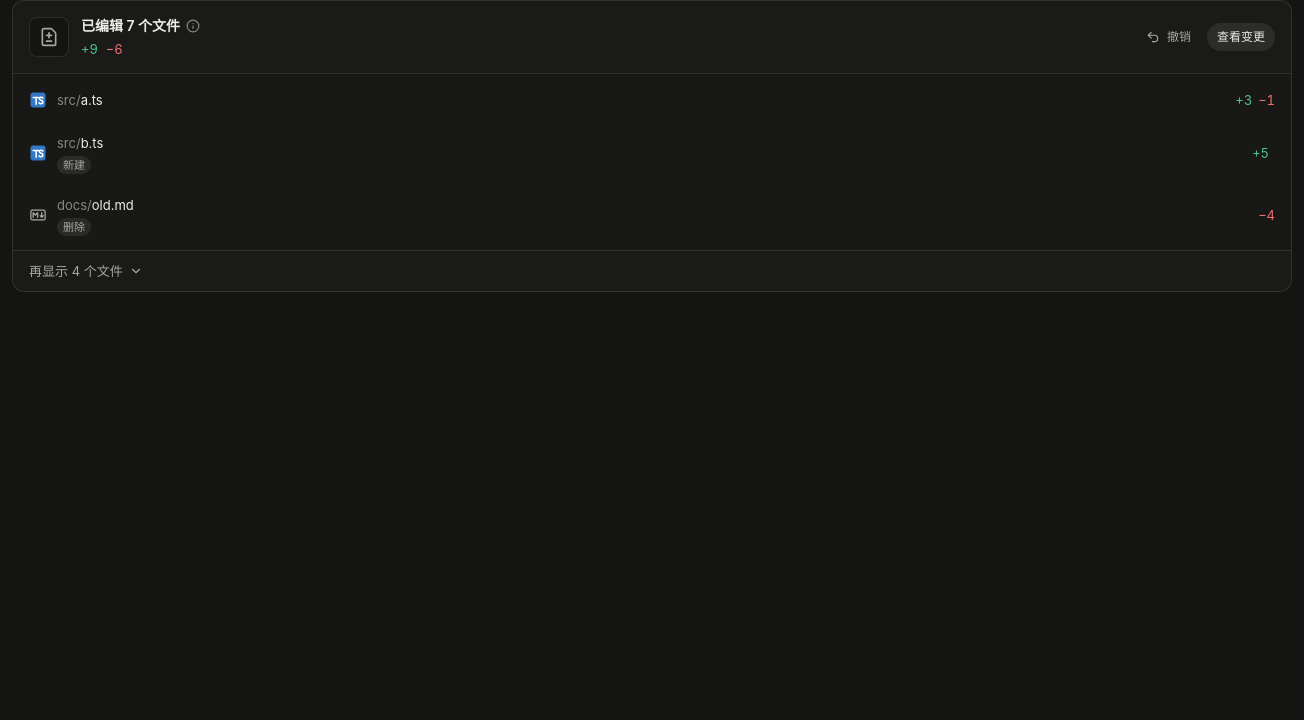
Test: TurnFilesCard › sums up the turn and lists the first files
Expected: the text with class "headline" reads "已编辑 7 个文件", [81,17,180,34]
Expected: the text with class "add" reads "+9", [81,41,98,57]
Click the button with class "more".
click(86, 271)  # box [13,251,159,291]
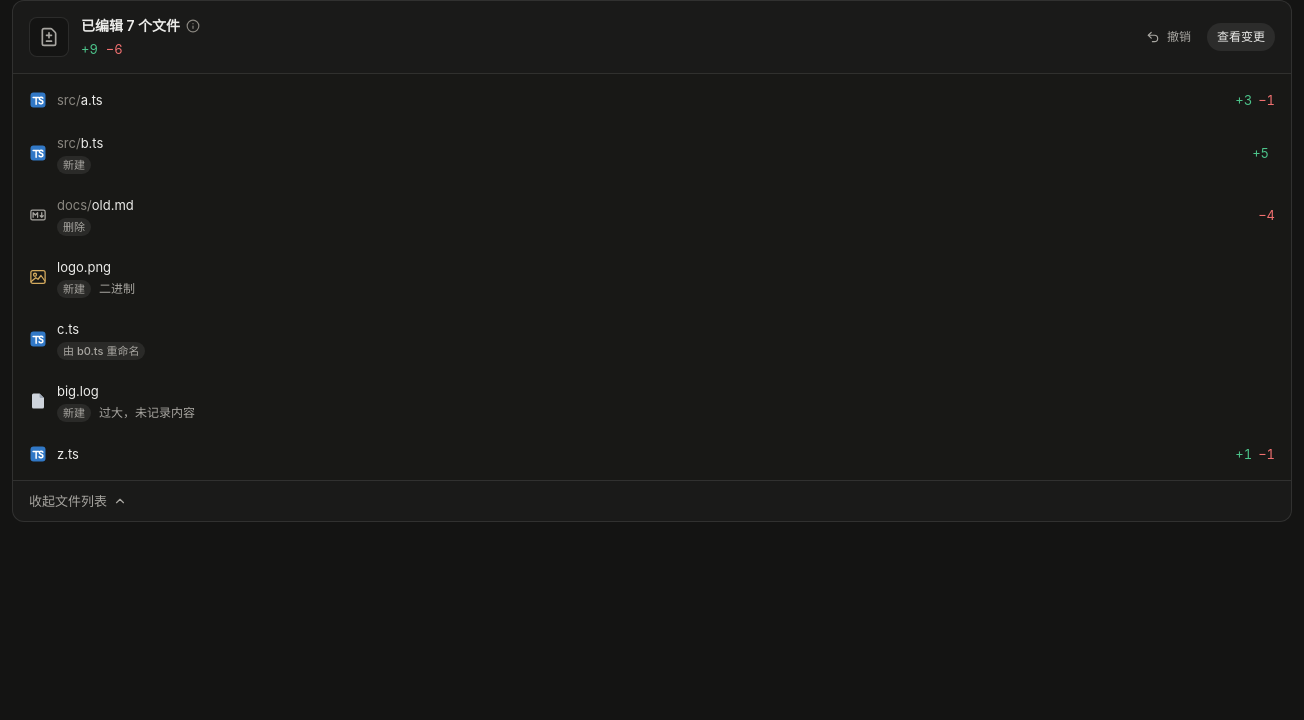
Result: the text "二进制" is shown at [99,280,135,298]
Result: the text "由 b0.ts 重命名" is shown at [57,342,145,360]
Result: the text "过大，未记录内容" is shown at [99,404,195,422]
